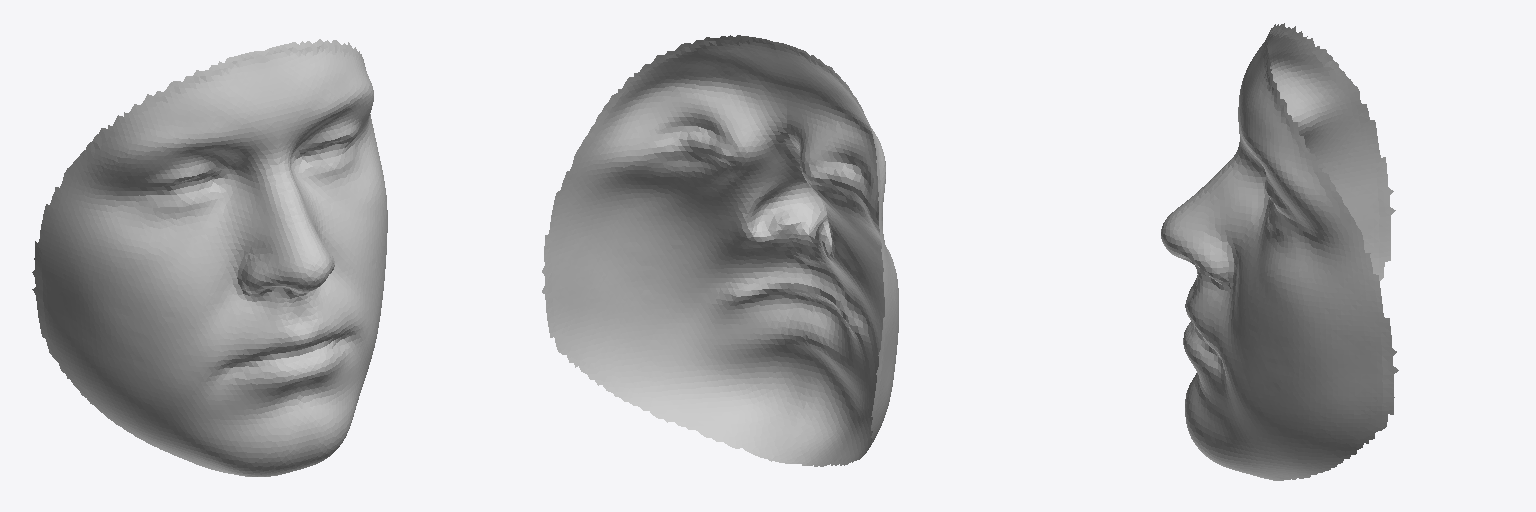
Rendered from SIMPOP_09.obj.
3 views of the same model, side by side, from view 1: azimuth 30°, elevation 25°; view 2: azimuth 150°, elevation 25°; view 3: azimuth 270°, elevation 25° (orthographic).
Visible parts, largest first — view 1: SIMPOP_09; view 2: SIMPOP_09; view 3: SIMPOP_09.
Part boxes in pixels (bbox=[...]): SIMPOP_09: bbox=[32, 39, 387, 476]; SIMPOP_09: bbox=[542, 35, 898, 466]; SIMPOP_09: bbox=[1161, 23, 1398, 480].
Bounding box in the file's own units: 152 × 182 × 93.58.